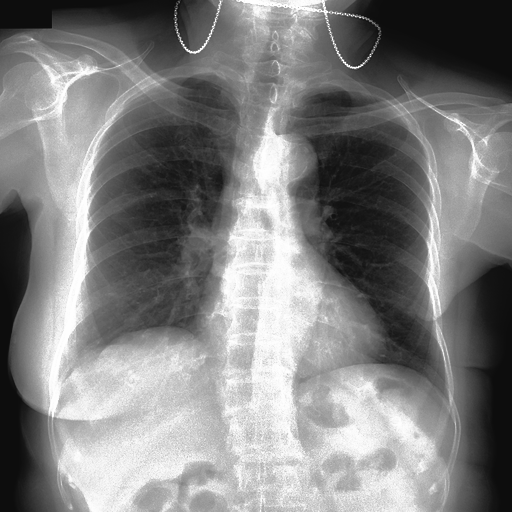Calcification: (181, 74, 222, 83)
Consolidation: (252, 131, 320, 190)
Nodule/Mass: (194, 294, 387, 363)
